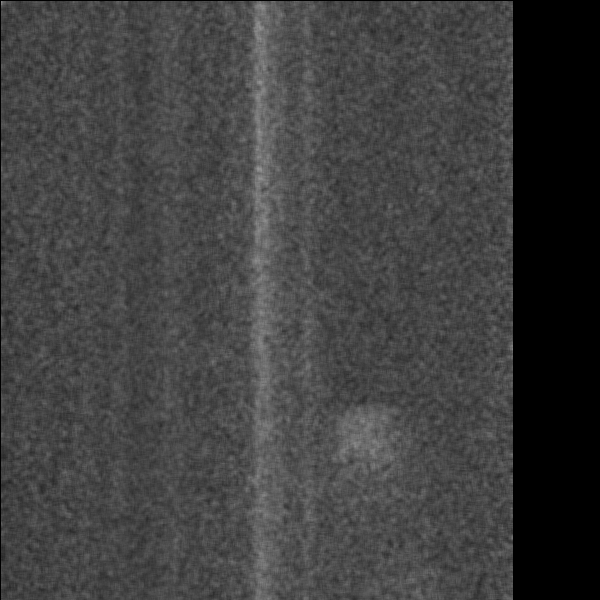spark: (347, 409, 383, 463)
